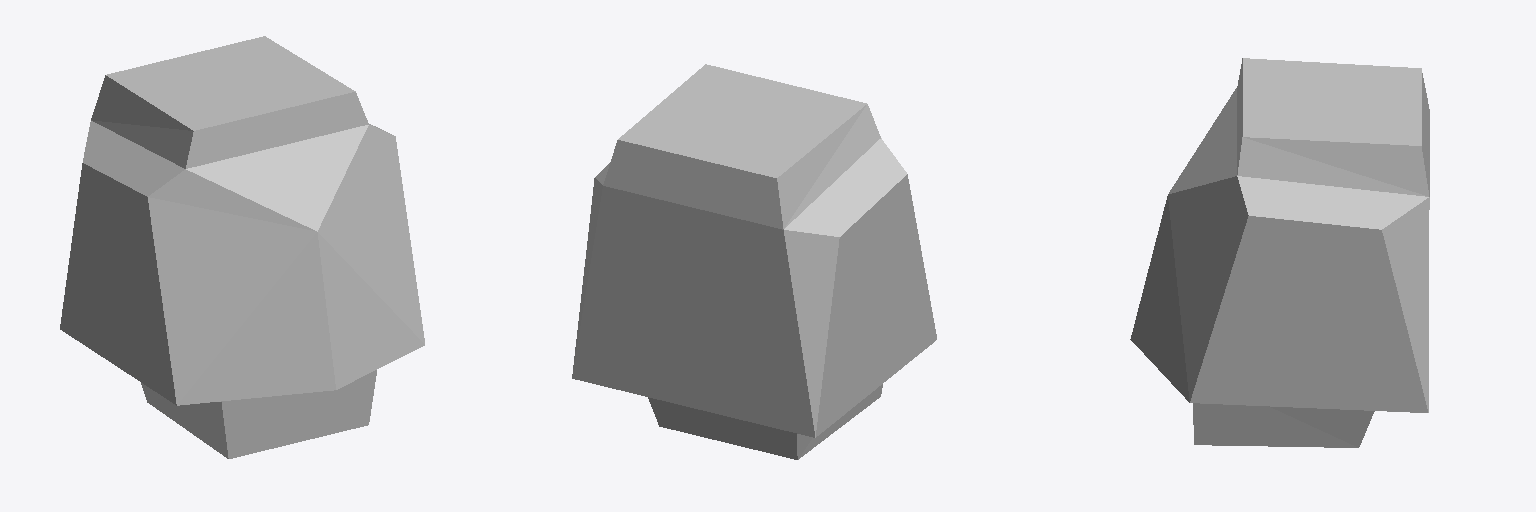
File: Roll_Spine.obj
The picture shows the model from 3 angles: view 1: azimuth 30°, elevation 25°; view 2: azimuth 150°, elevation 25°; view 3: azimuth 270°, elevation 25°; orthographic projection.
Parts seen in each view (by area): view 1: Spine_Body; view 2: Spine_Body; view 3: Spine_Body.
Part boxes in pixels (x1,y1,x2,y2): Spine_Body: (60,36,424,458); Spine_Body: (572,64,936,459); Spine_Body: (1130,58,1429,447).
Bounding box in the file's own units: 0.8787 × 1.07 × 0.9153.